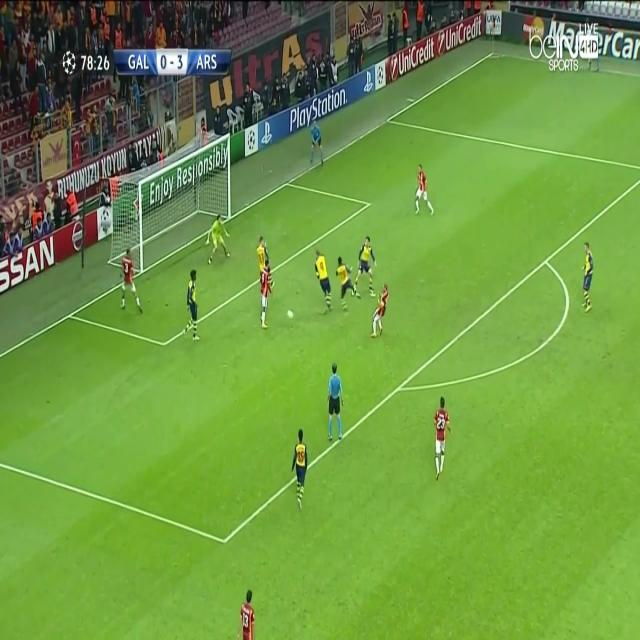Ball: (286, 307, 294, 322)
Goalkeeper: (204, 214, 232, 268)
Player: (432, 396, 454, 484), (289, 426, 310, 512), (352, 234, 379, 300), (119, 247, 143, 317), (182, 268, 200, 346), (412, 162, 436, 218), (313, 248, 334, 311), (369, 282, 389, 342), (336, 255, 357, 312), (236, 586, 257, 640), (582, 239, 595, 320), (261, 260, 273, 334), (256, 235, 270, 272)
Referee: (326, 363, 344, 442), (308, 117, 324, 169)
